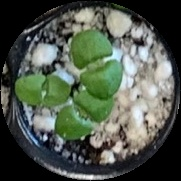Basil: (70, 31, 124, 97), (54, 91, 115, 139), (17, 76, 68, 107)
